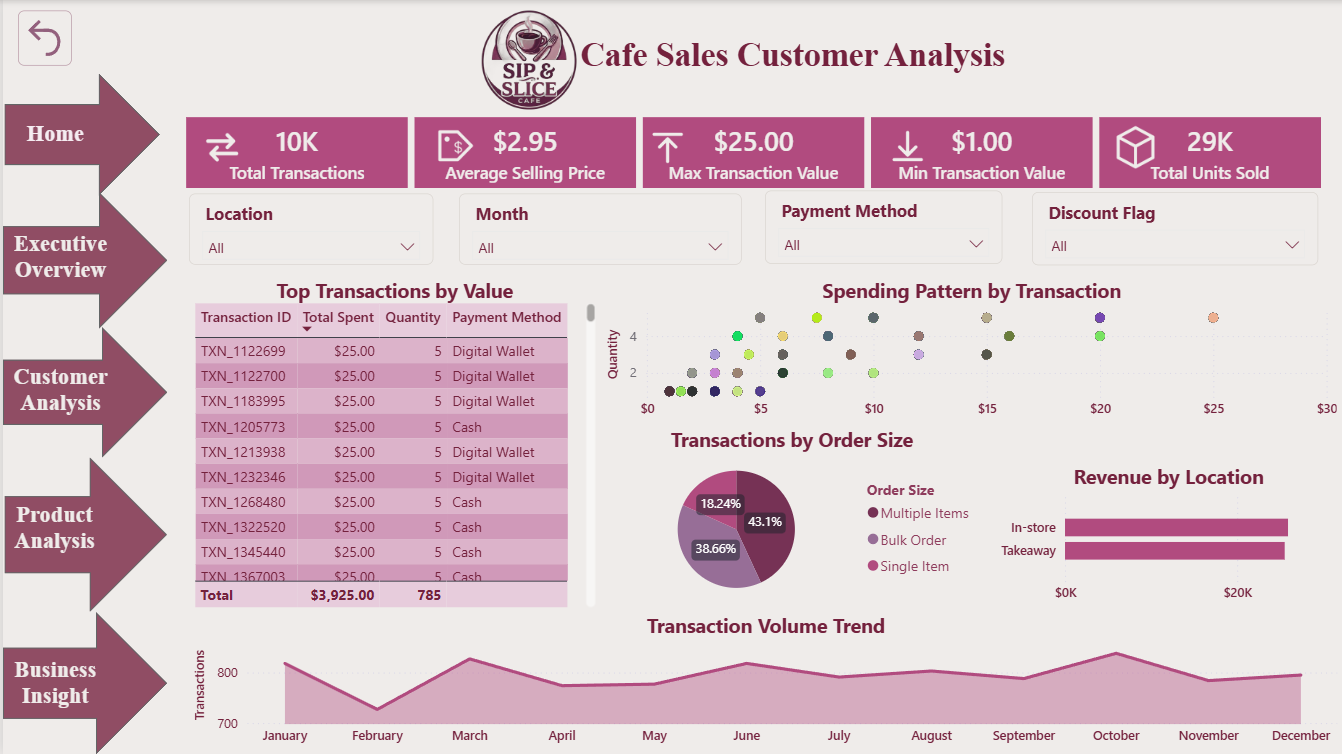

What the dashboard file says about the page in this screenshot:
{"tool":"powerbi","page":{"name":"Customer Analysis","canvas":[1280,720],"ordinal":2},"visuals":[{"type":"group","id":"g1","title":"Group 5","box":[0,69.9,149.9,116.6],"z":0,"group":"g6"},{"type":"cardVisual","fields":{"Data":["_Measures.Total Transactions","_Measures.Average Selling Price","_Measures.Max Transaction Value","_Measures.Min Transaction Value","_Measures.Total Units Sold"]},"box":[156.9,94.5,1122.5,102],"z":0,"group":"g11"},{"type":"image","box":[177.7,115.3,60.5,49.1],"z":0,"group":"g10"},{"type":"scatterChart","title":"Spending Pattern by Transaction","fields":{"X":["Sum(Cafe_Sales.Total Spent)"],"Y":["Sum(Cafe_Sales.Quantity)"],"Series":["Cafe_Sales.Transaction ID"]},"box":[571.6,264.9,707.1,143.4],"z":0},{"type":"image","box":[395,115.3,69.9,49.1],"z":1000,"group":"g10"},{"type":"group","id":"g2","title":"Group 6","box":[0,183.3,156.9,130.4],"z":1000,"group":"g6"},{"type":"areaChart","title":"Transaction Volume Trend","fields":{"Category":["Dim_Date.Month"],"Y":["_Measures.Total Transactions"]},"box":[177.6,583.9,1101.7,136.1],"z":1000},{"type":"image","box":[612.3,115.3,43.5,49.1],"z":2000,"group":"g10"},{"type":"group","id":"g3","title":"Group 7","box":[0,311.8,156.9,124.7],"z":2000,"group":"g6"},{"type":"pieChart","title":"Transactions by Order Size","fields":{"Category":["Cafe_Sales.Order Size"],"Y":["_Measures.Total Transactions"]},"box":[570.7,406.3,366.6,177.6],"z":2000},{"type":"image","box":[841,115.3,43.5,49.1],"z":3000,"group":"g10"},{"type":"clusteredBarChart","title":"Revenue by Location","fields":{"Category":["Cafe_Sales.Location"],"Y":["_Measures.Total Revenue"]},"box":[946.8,442.2,332.6,141.7],"z":3000},{"type":"group","id":"g4","title":"Group 8","box":[0,584,156.9,136.1],"z":3000,"group":"g6"},{"type":"image","box":[1047,115.3,66.1,49.1],"z":4000,"group":"g10"},{"type":"tableEx","title":"Top Transactions by Value","fields":{"Values":["Cafe_Sales.Transaction ID","Sum(Cafe_Sales.Total Spent)","Sum(Cafe_Sales.Quantity)","Cafe_Sales.Payment Method"]},"box":[177.6,264.6,393.1,319.4],"z":4000},{"type":"group","id":"g5","title":"Group 9","box":[0,436.5,156.9,147.4],"z":4000,"group":"g6"},{"type":"group","id":"g6","title":"Group 1","box":[0,69.9,156.9,650.1],"z":5000},{"type":"group","id":"g7","title":"Group 2","box":[255,10,998.4,94.5],"z":6000},{"type":"slicer","fields":{"Values":["Dim_Date.Month"]},"box":[436.1,184.7,269.7,68.2],"z":6000,"group":"g8"},{"type":"group","id":"g8","title":"Group 3","box":[177.6,182.4,1079.1,70.8],"z":7000},{"type":"slicer","fields":{"Values":["Cafe_Sales.Location"]},"box":[177.6,184.7,233.6,68.2],"z":7000,"group":"g8"},{"type":"group","id":"g9","title":"Group 10","box":[156.9,94.5,1122.5,102],"z":8000},{"type":"slicer","fields":{"Values":["Cafe_Sales.Payment Method"]},"box":[728.2,182.4,226.8,69.9],"z":8000,"group":"g8"},{"type":"group","id":"g10","title":"Group 4","box":[177.7,115.3,935.4,49.1],"z":8006,"group":"g11"},{"type":"group","id":"g11","title":"Group 11","box":[156.9,94.5,1122.5,102],"z":8008,"group":"g9"},{"type":"actionButton","box":[0,0,51.5,53],"z":9000},{"type":"slicer","fields":{"Values":["Cafe_Sales.Discount Flag"]},"box":[983.1,183.3,273.5,69.9],"z":9000,"group":"g8"},{"type":"textbox","box":[255,10,998.4,77.5],"z":16000,"group":"g7"},{"type":"image","box":[421,10,162.6,94.5],"z":16007,"group":"g7"},{"type":"shape","box":[0,584,156.9,136.1],"z":19000,"group":"g4"},{"type":"shape","box":[1.5,69.9,148.4,116.6],"z":20000,"group":"g1"},{"type":"shape","box":[0,311.8,156.9,124.7],"z":21000,"group":"g3"},{"type":"shape","box":[0,183.3,156.9,130.4],"z":22000,"group":"g2"},{"type":"shape","box":[1.7,436.5,155.1,147.4],"z":23000,"group":"g5"},{"type":"textbox","box":[0,109.4,99.9,40.9],"z":23005,"group":"g1"},{"type":"textbox","box":[0,214.4,110,64.2],"z":23007,"group":"g2"},{"type":"textbox","box":[0,342,110,66.4],"z":23009,"group":"g3"},{"type":"textbox","box":[0,473.5,98.8,64.1],"z":23011,"group":"g5"},{"type":"textbox","box":[0,620.9,100.2,70],"z":23012,"group":"g4"}]}

Visuals, with their boxes in screenshot pixels (x1, y1, x2, y2), scaled from the page's 1280x720 canvas onto the 1342x754 screenshot:
"Group 5" group: detection(0, 73, 157, 195)
cardVisual - _Measures.Total Transactions x _Measures.Average Selling Price: detection(164, 99, 1341, 206)
image: detection(186, 121, 250, 172)
"Spending Pattern by Transaction" scatterChart: detection(599, 277, 1341, 428)
image: detection(414, 121, 487, 172)
"Group 6" group: detection(0, 192, 164, 329)
"Transaction Volume Trend" areaChart: detection(186, 611, 1341, 753)
image: detection(642, 121, 688, 172)
"Group 7" group: detection(0, 327, 164, 457)
"Transactions by Order Size" pieChart: detection(598, 425, 983, 611)
image: detection(882, 121, 927, 172)
"Revenue by Location" clusteredBarChart: detection(993, 463, 1341, 611)
"Group 8" group: detection(0, 612, 164, 753)
image: detection(1098, 121, 1167, 172)
"Top Transactions by Value" tableEx: detection(186, 277, 598, 612)
"Group 9" group: detection(0, 457, 164, 611)
"Group 1" group: detection(0, 73, 164, 753)
"Group 2" group: detection(267, 10, 1314, 109)
slicer - Dim_Date.Month: detection(457, 193, 740, 265)
"Group 3" group: detection(186, 191, 1318, 265)
slicer - Cafe_Sales.Location: detection(186, 193, 431, 265)
"Group 10" group: detection(164, 99, 1341, 206)
slicer - Cafe_Sales.Payment Method: detection(763, 191, 1001, 264)
"Group 4" group: detection(186, 121, 1167, 172)
"Group 11" group: detection(164, 99, 1341, 206)
actionButton: detection(0, 0, 54, 56)
slicer - Cafe_Sales.Discount Flag: detection(1031, 192, 1317, 265)
textbox: detection(267, 10, 1314, 92)
image: detection(441, 10, 612, 109)
shape: detection(0, 612, 164, 753)
shape: detection(2, 73, 157, 195)
shape: detection(0, 327, 164, 457)
shape: detection(0, 192, 164, 329)
shape: detection(2, 457, 164, 611)
textbox: detection(0, 115, 105, 157)
textbox: detection(0, 225, 115, 292)
textbox: detection(0, 358, 115, 428)
textbox: detection(0, 496, 104, 563)
textbox: detection(0, 650, 105, 724)
